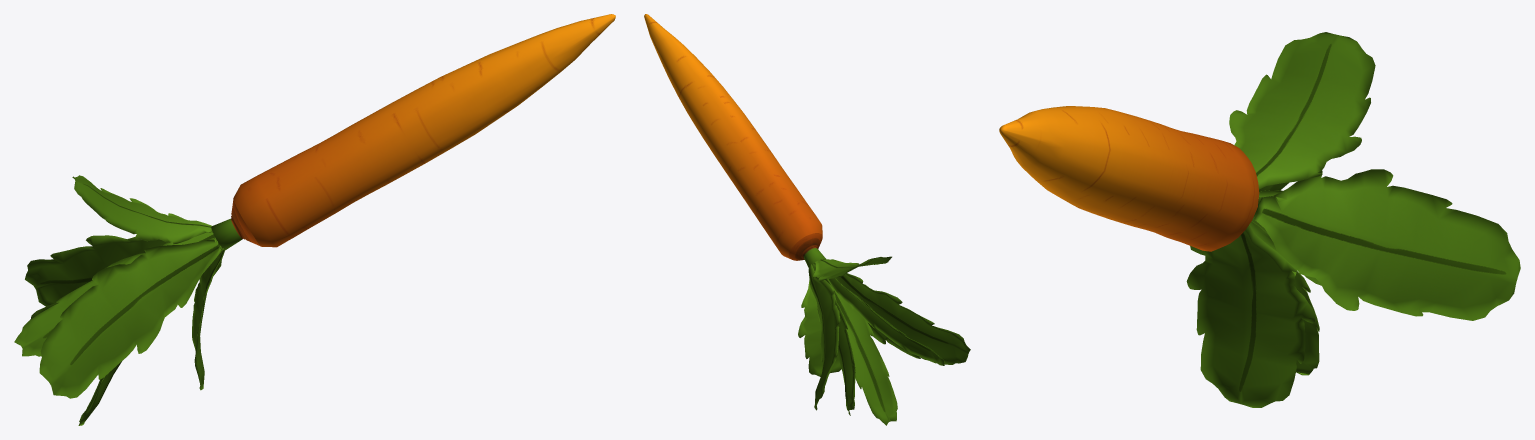
The model's file is carrot_dynamic.obj.
The picture shows the model from 3 angles, left to right: view 1: azimuth 30°, elevation 25°; view 2: azimuth 150°, elevation 25°; view 3: azimuth 270°, elevation 25°; orthographic projection. The views are drawn at different scales.
Size of the model in its own units: 0.6993 by 0.4971 by 0.4211.
Materials: 3 (3 with a texture image).
